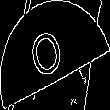O_S: (35, 23, 75, 87)
